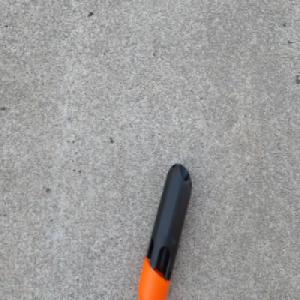PlasticPart: (135, 162, 193, 300)
